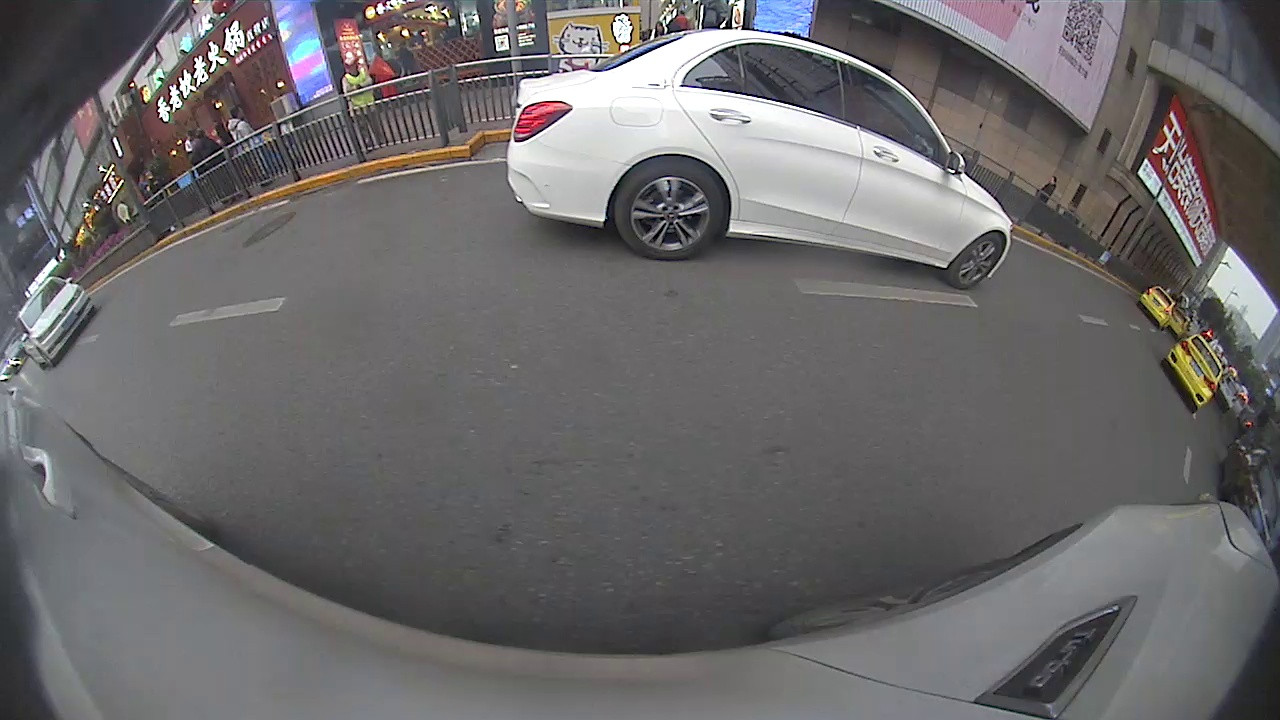car: (505, 27, 1015, 292), (13, 276, 100, 371), (1159, 325, 1225, 413), (1136, 285, 1178, 327)
front: (947, 236, 1009, 289)
person: (337, 53, 396, 152)
rear: (612, 158, 727, 260)
